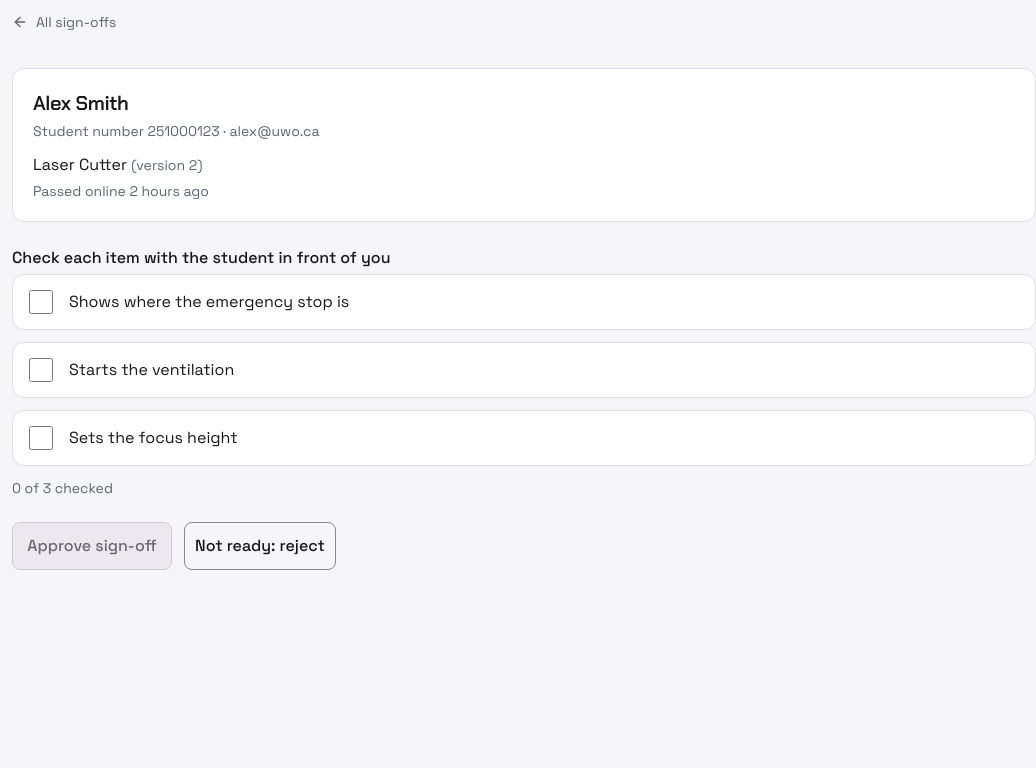
SignoffDetail: the checklist gates Approve › keeps Approve disabled until every item is ticked, then enables it
Expected: the heading "Alex Smith" is shown, [33,90,128,116]
Click the checkbox labelled "Shows where the emergency stop is" at (41, 302), box [29,290,53,314]
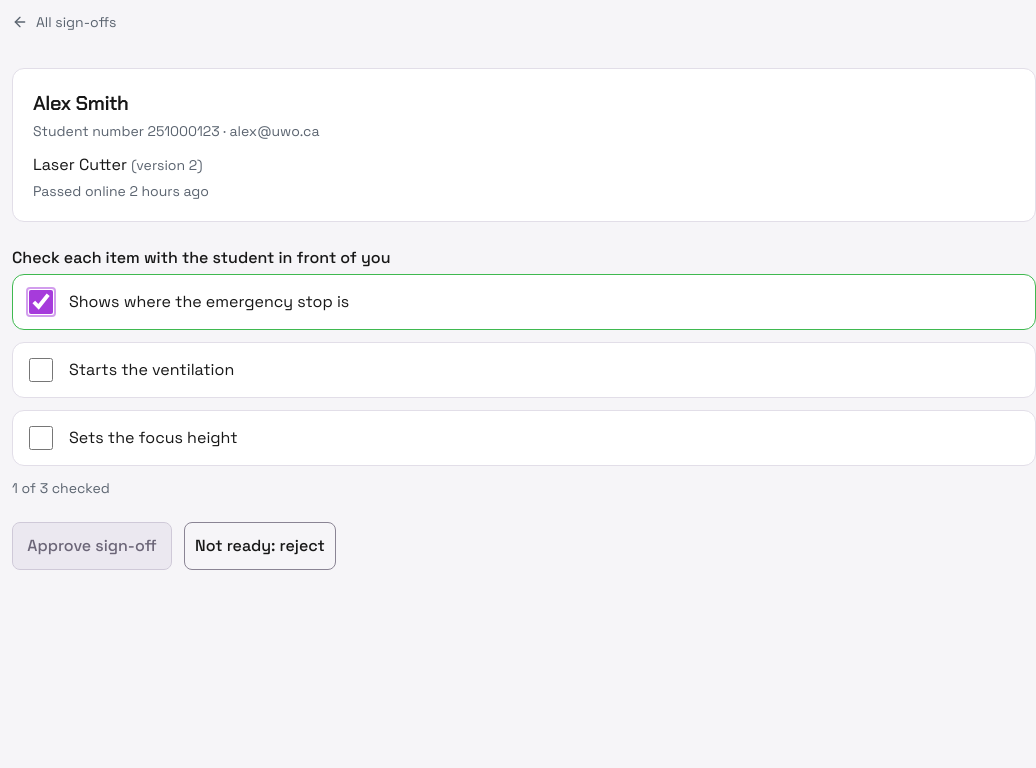
Click the checkbox labelled "Starts the ventilation" at (41, 370), box [29,358,53,382]
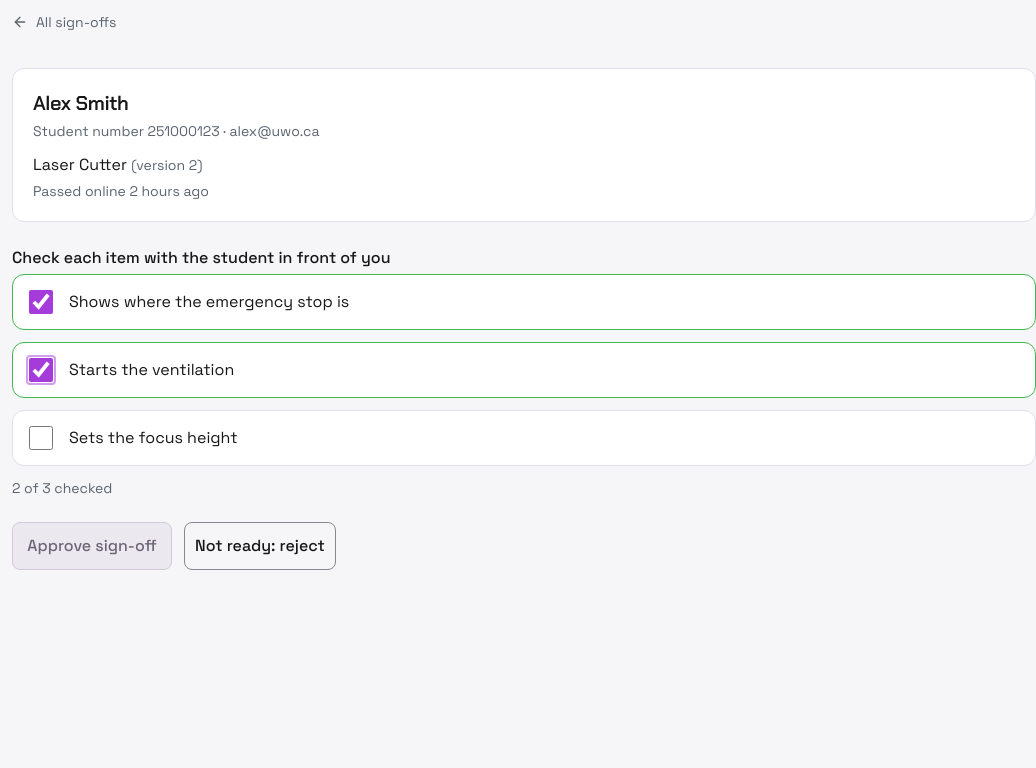
Expected: the button "Approve sign-off" is disabled, [12,522,172,570]
Expected: the text "2 of 3 checked" is shown, [12,479,112,497]
Click the checkbox labelled "Sets the focus height" at (41, 438), box [29,426,53,450]
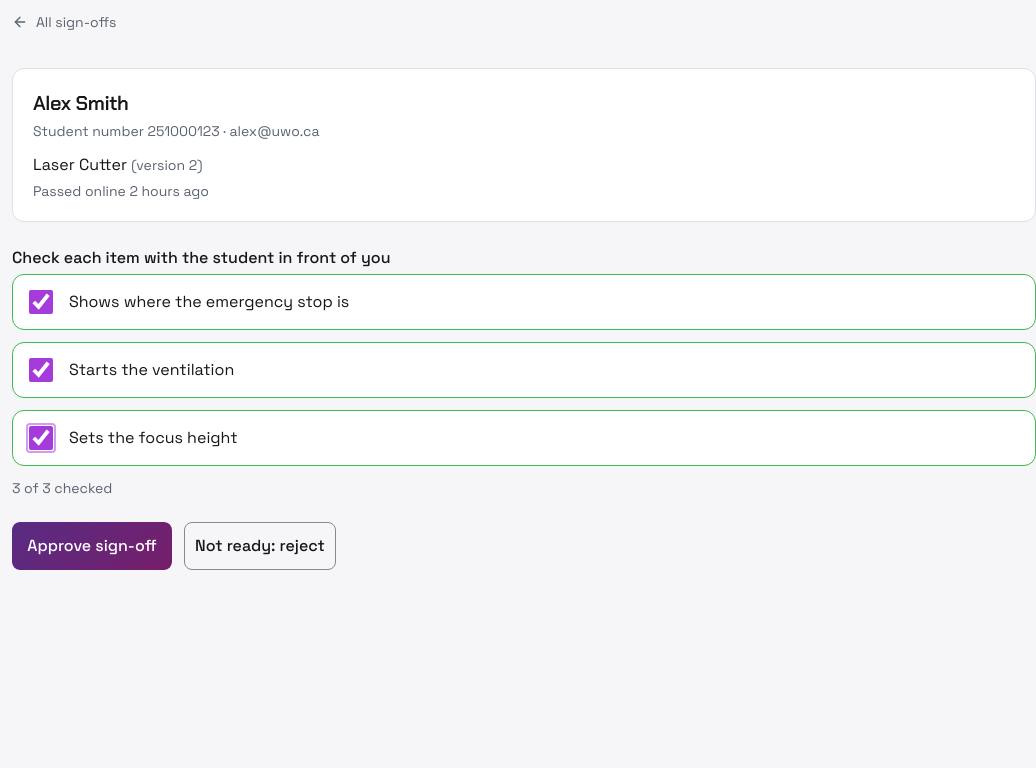
Expected: the text "3 of 3 checked" is shown, [12,479,112,497]
Expected: the button "Approve sign-off" is enabled, [12,522,172,570]
// Unticking one takes it away again
Click the checkbox labelled "Starts the ventilation" at (41, 370), box [29,358,53,382]
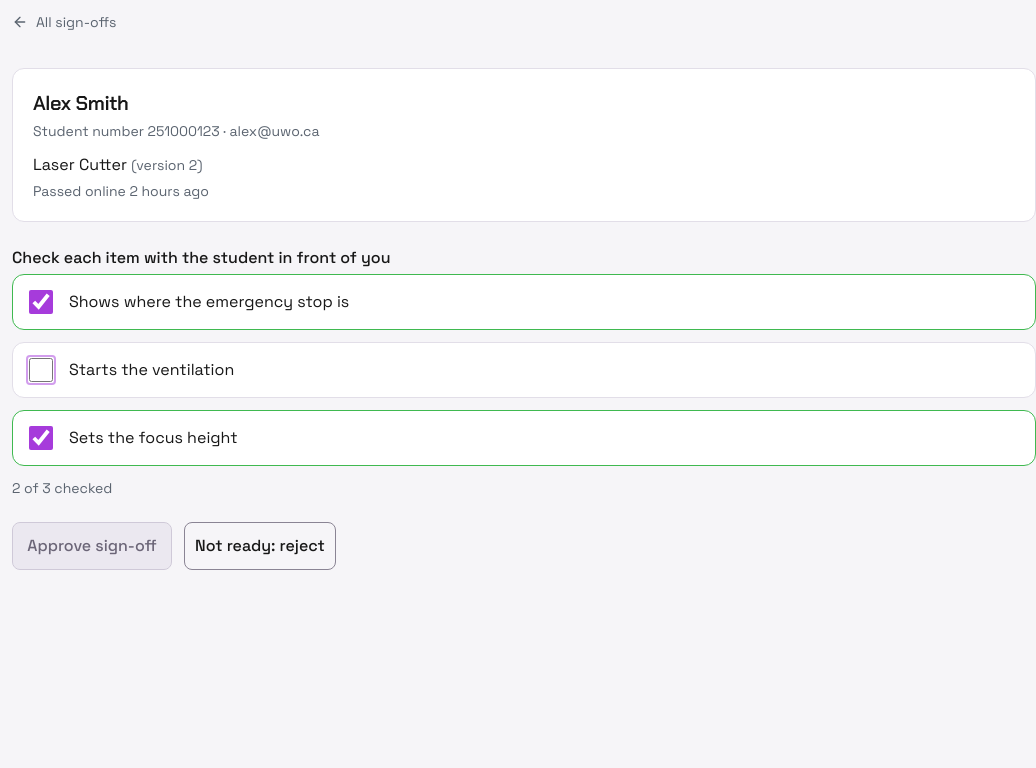
Expected: the button "Approve sign-off" is disabled, [12,522,172,570]
